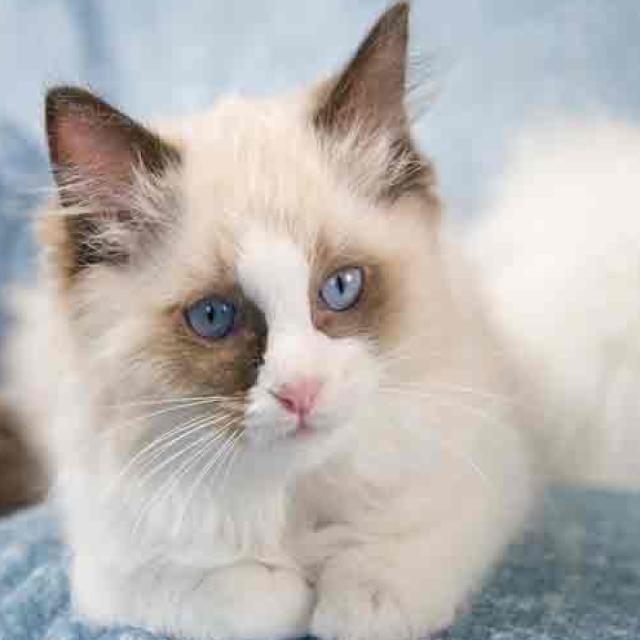Ragdoll: (0, 0, 542, 640)
